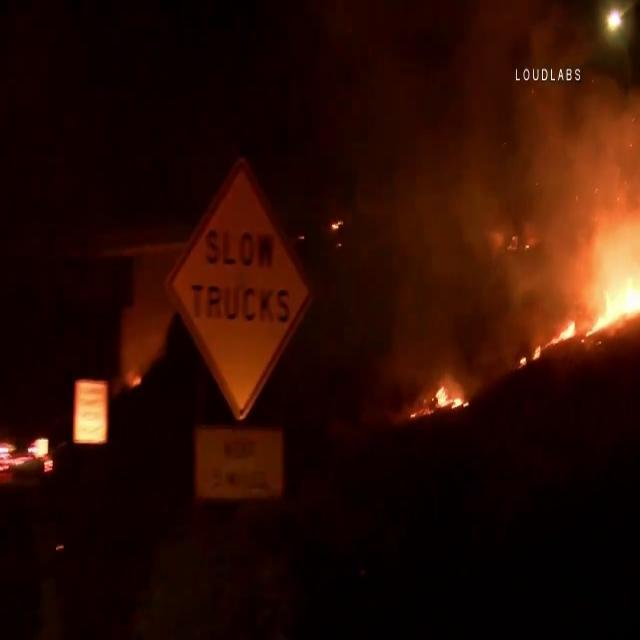Fire: (578, 255, 640, 341), (428, 376, 468, 418)
Smoke: (356, 1, 640, 270)
